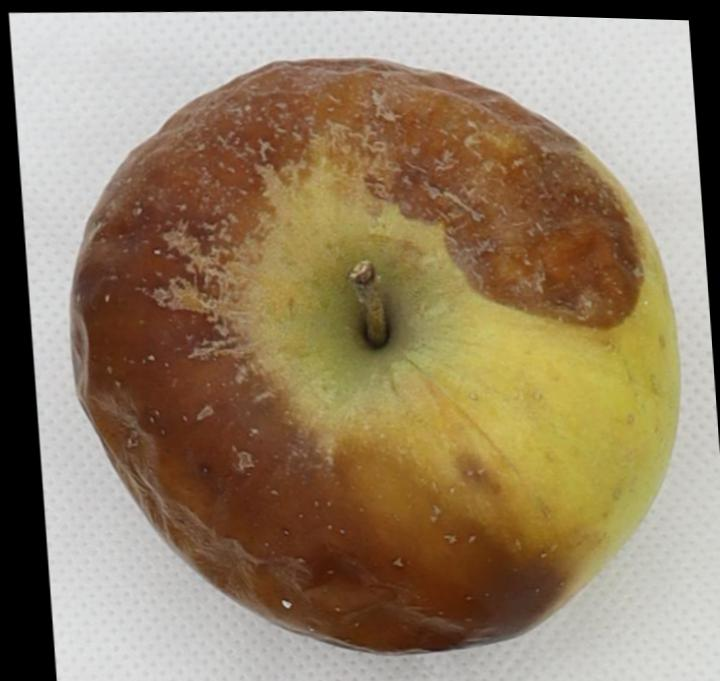apple: (72, 59, 679, 651)
rot_mold_decay: (72, 58, 650, 650)
